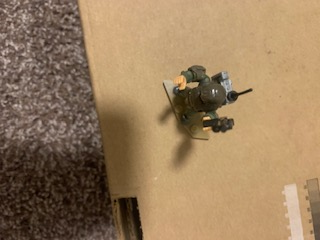soldier: (170, 64, 254, 137)
